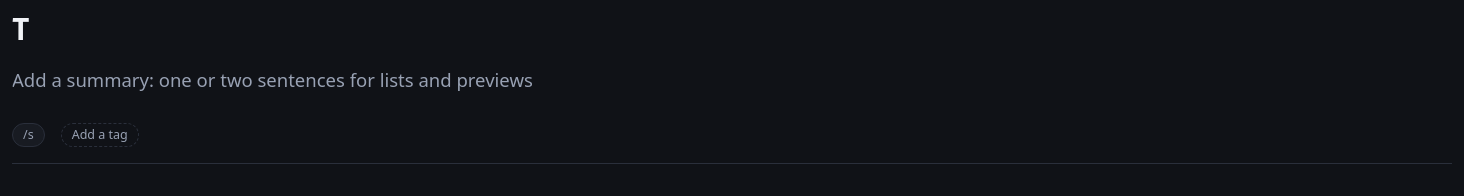
Test case: the tag pills › keeps what was typed when the input loses focus
Click the button "Add a tag" at (100, 135), box [61, 123, 139, 147]
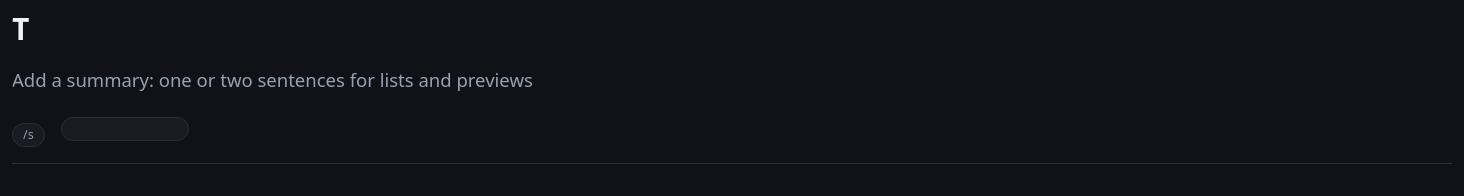
Type "late" into the field named "Tags" at (125, 129), box [61, 117, 189, 141]
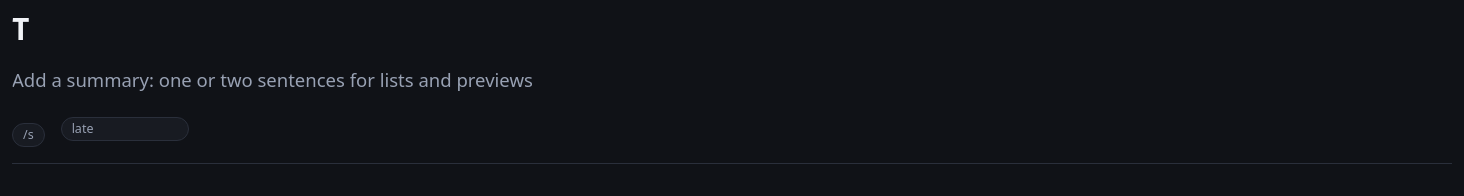
Leave the field named "Tags", box [61, 117, 189, 141]
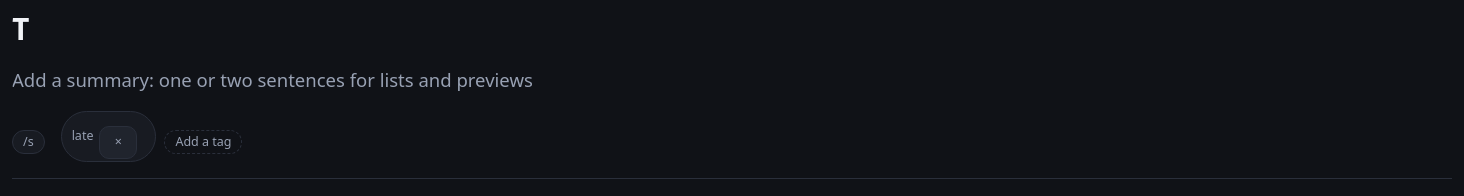
Now the button named "Remove tag late" is shown, box [100, 126, 137, 158]
Now the field labelled "Tags" is gone
